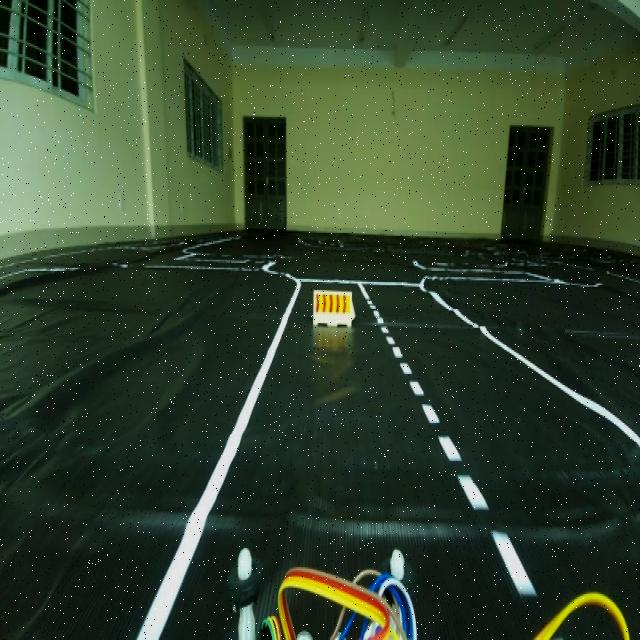roadblock: (308, 284, 360, 338)
